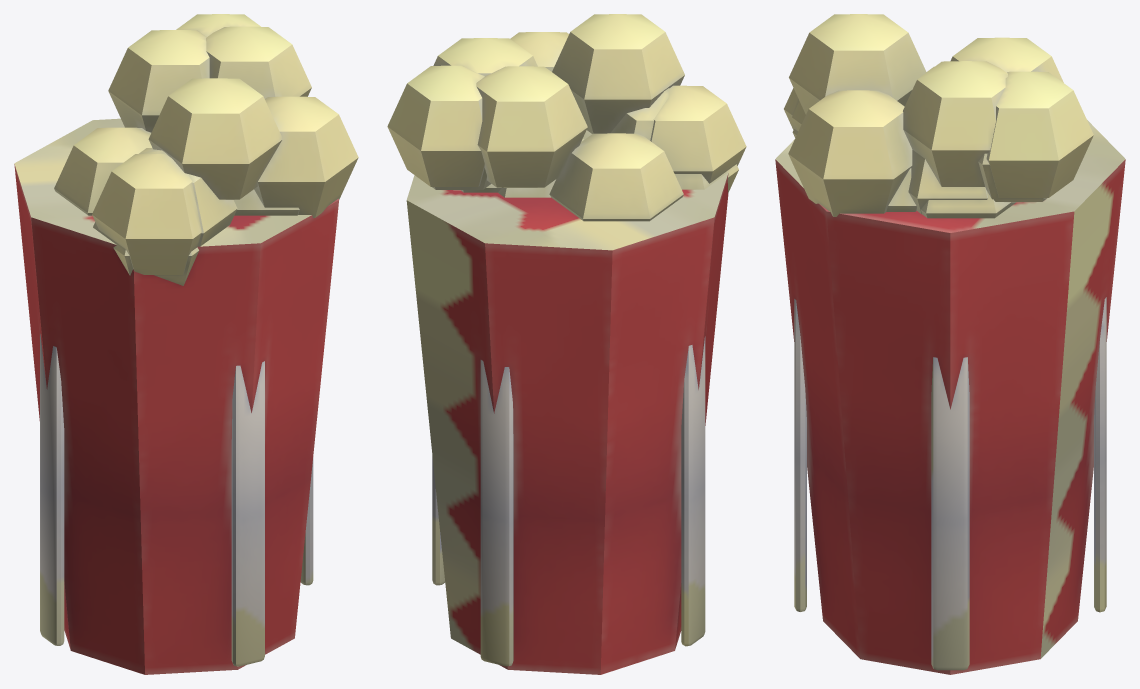
Rendered from held_bag.glb.
3 views of the same model, side by side, from view 1: azimuth 30°, elevation 25°; view 2: azimuth 150°, elevation 25°; view 3: azimuth 270°, elevation 25° (orthographic). The views are drawn at different scales.
Visible parts, largest first — view 1: Bag, Fill; view 2: Bag, Fill; view 3: Bag, Fill.
Part boxes in pixels (x1,y1,x2,y2): Bag: (14,118,338,674); Fill: (54,14,358,285); Bag: (406,172,728,674); Fill: (387,14,746,221); Bag: (775,120,1125,674); Fill: (784,14,1093,218).
Bounding box in the file's own units: 0.11 × 0.2094 × 0.11.
Materials: 1 (1 with a texture image).
